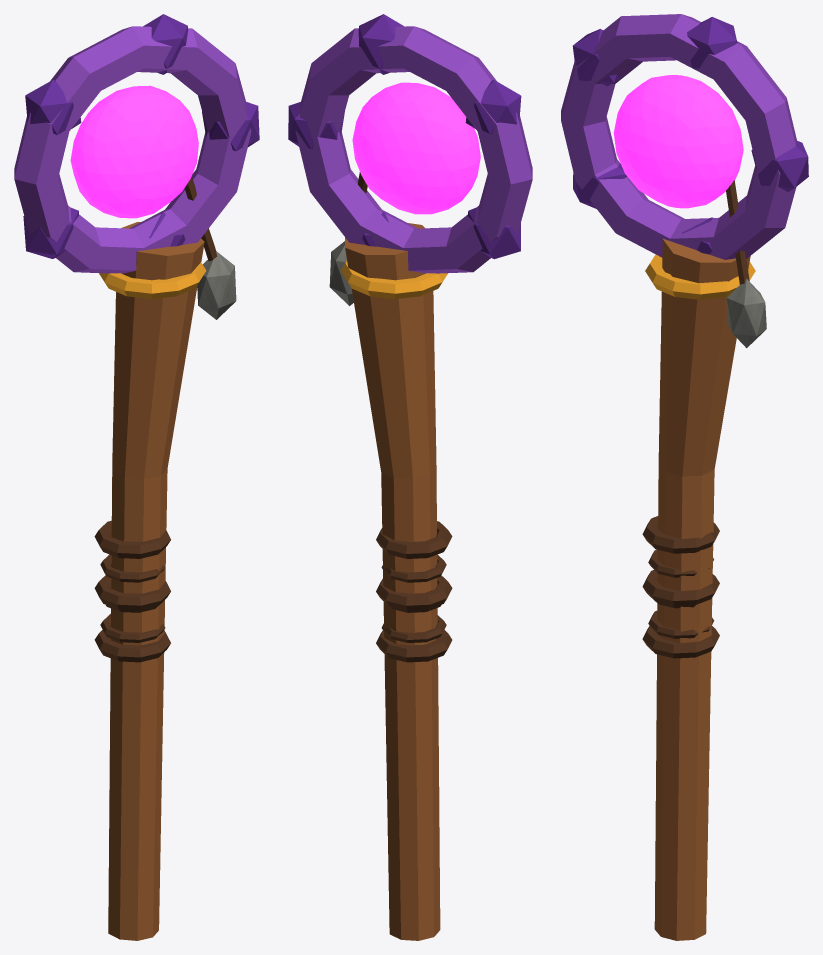
File: staff.glb
The picture shows the model from 3 angles, left to right: view 1: azimuth 30°, elevation 25°; view 2: azimuth 150°, elevation 25°; view 3: azimuth 330°, elevation 25°; orthographic projection.
Visible parts, largest first — view 1: Wizard staff shaft, Purple staff head, Glowing magic crystal, Staff gold collar, Woodland staff carved seed charm, Staff crystal prong.002, Staff grip bindings.002, Staff grip bindings.001, Staff grip bindings, Staff crystal prong.001, Staff crystal prong.003, Staff crystal prong (+2 smaller); view 2: Wizard staff shaft, Purple staff head, Glowing magic crystal, Staff gold collar, Staff crystal prong.002, Staff grip bindings.002, Staff grip bindings.001, Staff crystal prong.001, Staff grip bindings, Staff crystal prong.003, Staff crystal prong, Woodland staff carved seed charm (+2 smaller); view 3: Wizard staff shaft, Purple staff head, Glowing magic crystal, Woodland staff carved seed charm, Staff gold collar, Staff crystal prong, Staff crystal prong.001, Staff grip bindings.001, Staff grip bindings.002, Staff grip bindings, Staff crystal prong.002, Staff crystal prong.003 (+2 smaller).
Boxes of the visible parts, bbox=[...] form: Wizard staff shaft: bbox=[108, 222, 204, 940]; Purple staff head: bbox=[14, 26, 251, 273]; Glowing magic crystal: bbox=[70, 85, 198, 218]; Staff gold collar: bbox=[99, 262, 206, 298]; Woodland staff carved seed charm: bbox=[197, 251, 236, 319]; Staff crystal prong.002: bbox=[25, 80, 81, 135]; Staff grip bindings.002: bbox=[94, 520, 170, 558]; Staff grip bindings.001: bbox=[94, 575, 170, 610]; Staff grip bindings: bbox=[94, 630, 170, 662]; Staff crystal prong.001: bbox=[143, 14, 188, 74]; Staff crystal prong.003: bbox=[23, 207, 78, 258]; Staff crystal prong: bbox=[202, 101, 259, 151]; Wizard staff shaft: bbox=[345, 223, 440, 940]; Purple staff head: bbox=[295, 26, 532, 273]; Glowing magic crystal: bbox=[352, 82, 480, 214]; Staff gold collar: bbox=[340, 261, 447, 299]; Staff crystal prong.002: bbox=[465, 80, 521, 134]; Staff grip bindings.002: bbox=[376, 521, 452, 558]; Staff grip bindings.001: bbox=[376, 575, 452, 610]; Staff crystal prong.001: bbox=[358, 14, 404, 74]; Staff grip bindings: bbox=[376, 630, 452, 662]; Staff crystal prong.003: bbox=[467, 208, 520, 259]; Staff crystal prong: bbox=[288, 102, 344, 149]; Woodland staff carved seed charm: bbox=[329, 241, 353, 305]; Wizard staff shaft: bbox=[654, 238, 750, 940]; Purple staff head: bbox=[561, 14, 796, 259]; Glowing magic crystal: bbox=[613, 75, 743, 208]; Woodland staff carved seed charm: bbox=[726, 278, 766, 348]; Staff gold collar: bbox=[645, 254, 755, 299]; Staff crystal prong: bbox=[751, 140, 808, 191]; Staff crystal prong.001: bbox=[687, 17, 737, 68]; Staff grip bindings.001: bbox=[642, 570, 719, 605]; Staff grip bindings.002: bbox=[642, 516, 719, 553]; Staff grip bindings: bbox=[642, 626, 719, 658]; Staff crystal prong.002: bbox=[572, 29, 619, 86]; Staff crystal prong.003: bbox=[573, 163, 626, 208].
Size of the model in its own units: 0.5925 by 2.11 by 0.23.
Materials: 7 (1 with a texture image).
